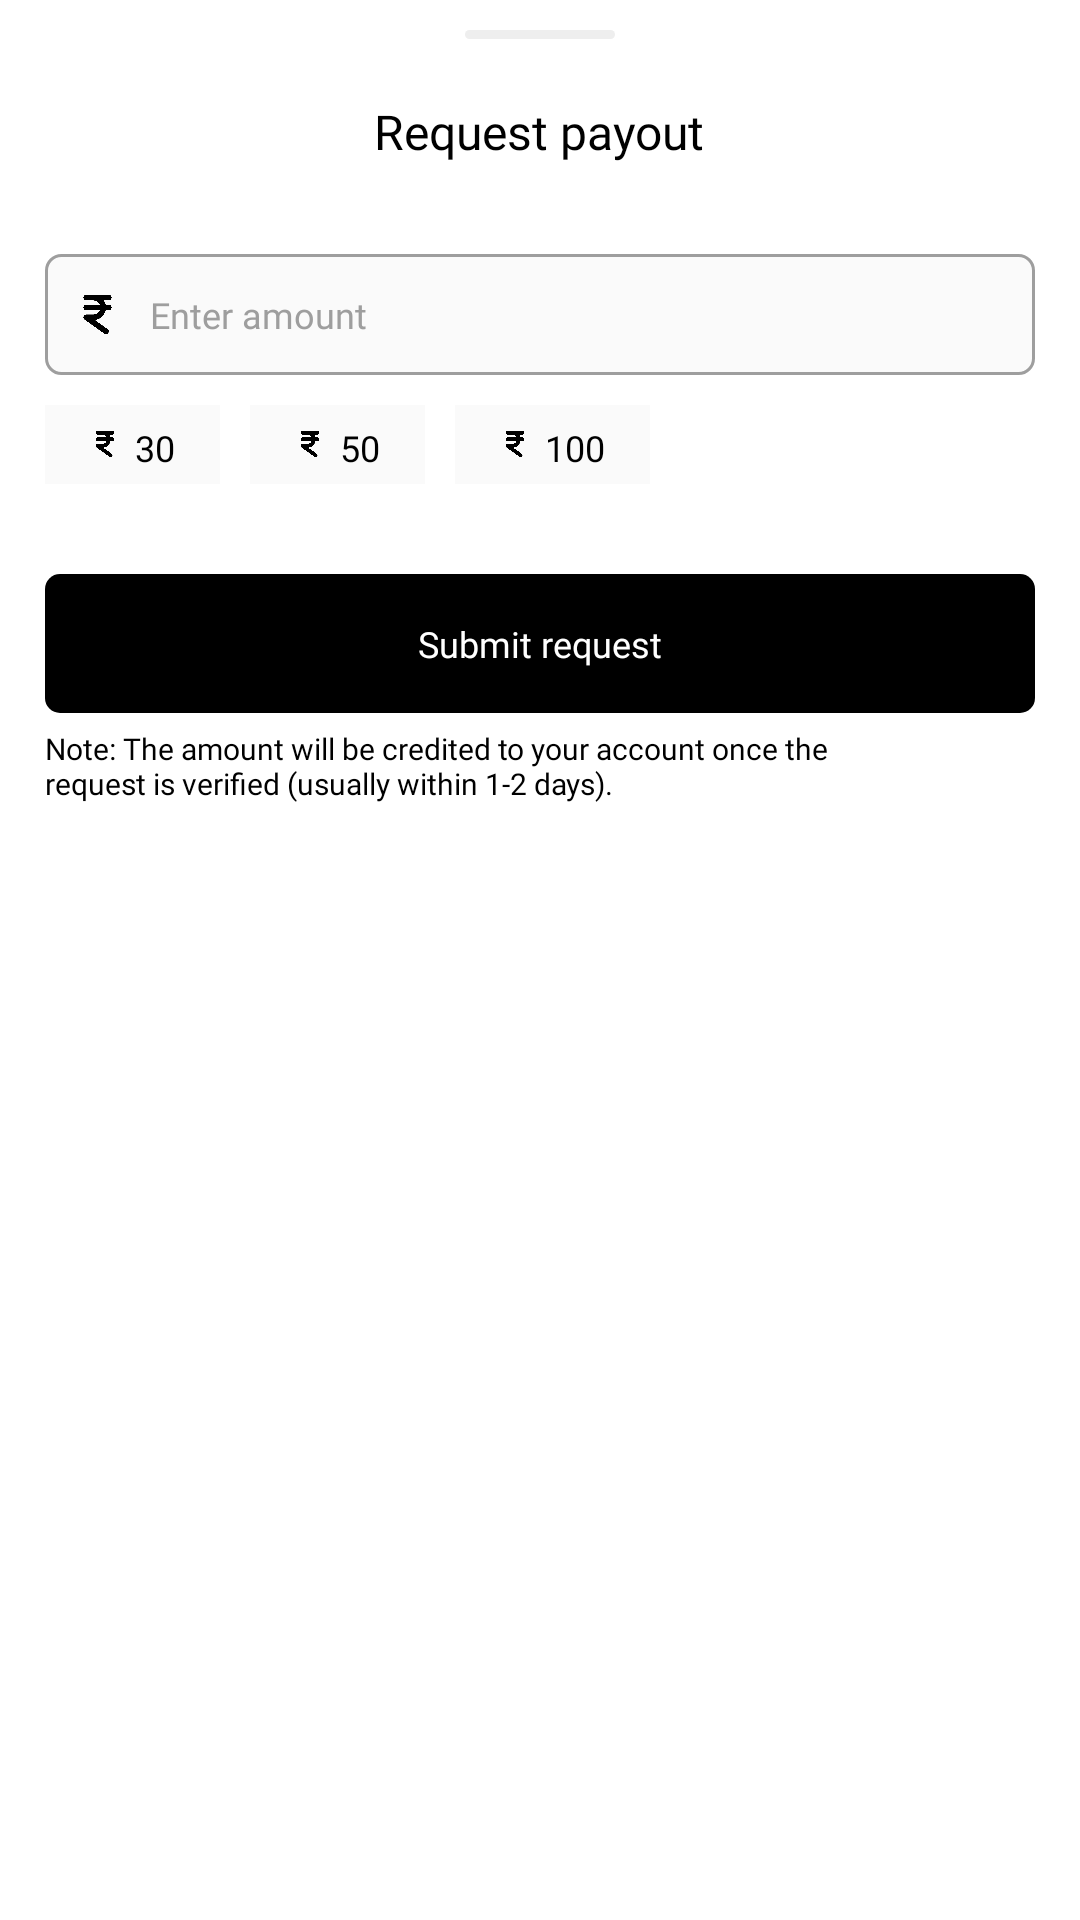

Named icons in this screenshot (1080×1920) and their centers, [x,y]:
cash: [97,314], [105,444], [310,444], [515,444]
